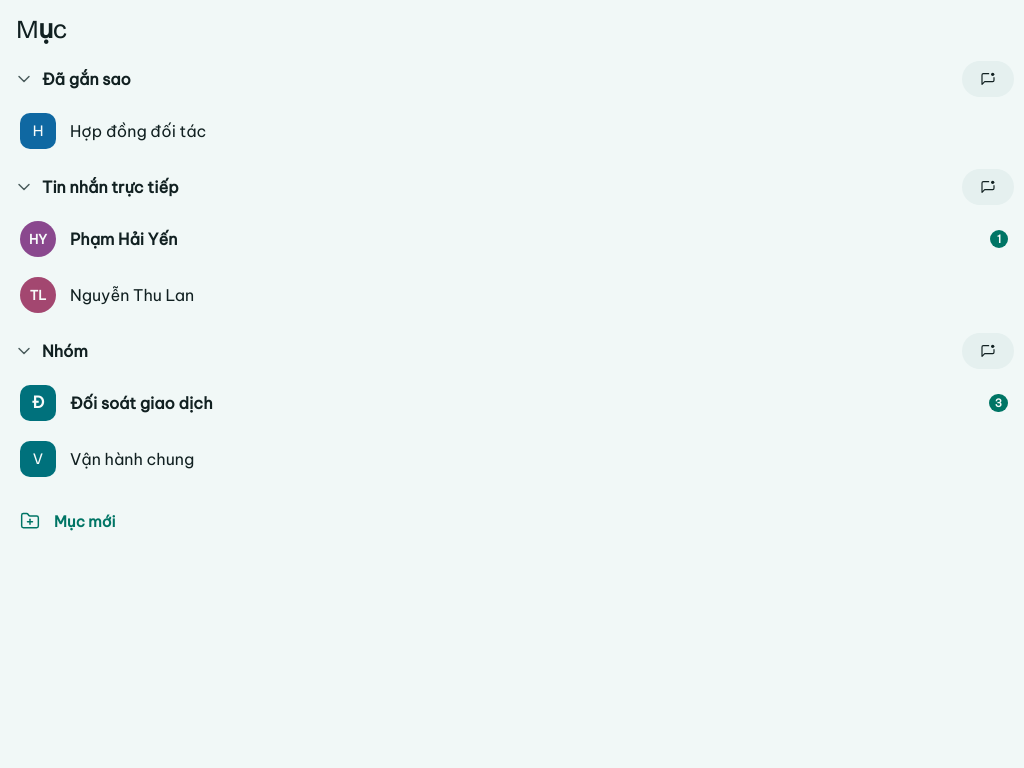
the long-press sheet: star and mute › a starred row offers Bỏ gắn sao and the mute only
The image size is (1024, 768).
Press the mouse on the list item "Hợp đồng đối tác" at (113, 131), box [20, 113, 206, 149]
Wait 401 ms
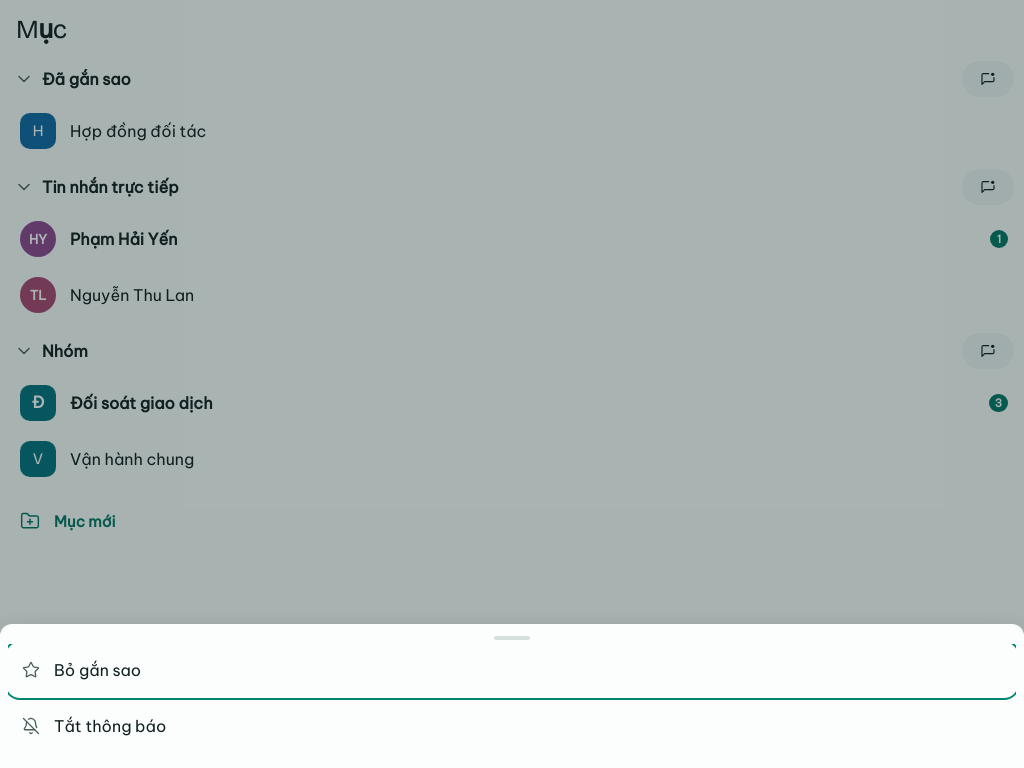
Check: the buttons read "Bỏ gắn sao", "Tắt thông báo", in this order, box [8, 644, 1016, 696]; [8, 700, 1016, 752]
